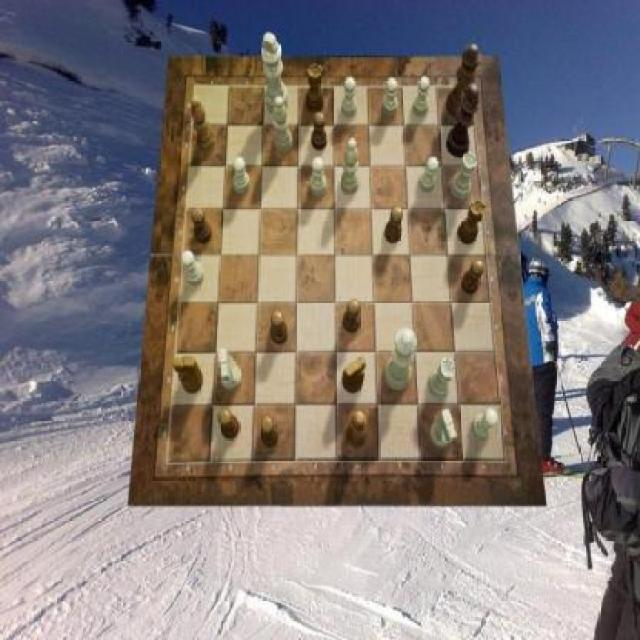bishop: (192, 95, 217, 153), (346, 411, 367, 448)
black-bishop: (446, 83, 480, 158)
black-king: (172, 355, 202, 393), (343, 355, 366, 394)
black-knight: (462, 259, 486, 293), (218, 408, 241, 440), (192, 208, 212, 244), (385, 206, 402, 244), (311, 112, 327, 151), (343, 299, 361, 333), (260, 417, 279, 449), (271, 309, 288, 344)
black-pawn: (446, 43, 482, 121)
black-queen: (457, 198, 485, 244), (304, 63, 324, 112)
black-rook: (274, 97, 294, 153), (340, 139, 359, 196)
white-bishop: (262, 32, 289, 115)
white-king: (431, 409, 458, 449), (220, 348, 243, 390)
white-knight: (470, 408, 498, 440), (182, 250, 204, 286), (418, 157, 439, 191), (310, 157, 328, 195), (414, 77, 431, 117), (342, 77, 358, 118), (382, 77, 398, 115), (234, 158, 250, 194)
white-pawn: (384, 328, 418, 390)
white-queen: (451, 152, 477, 200), (428, 358, 454, 398)
